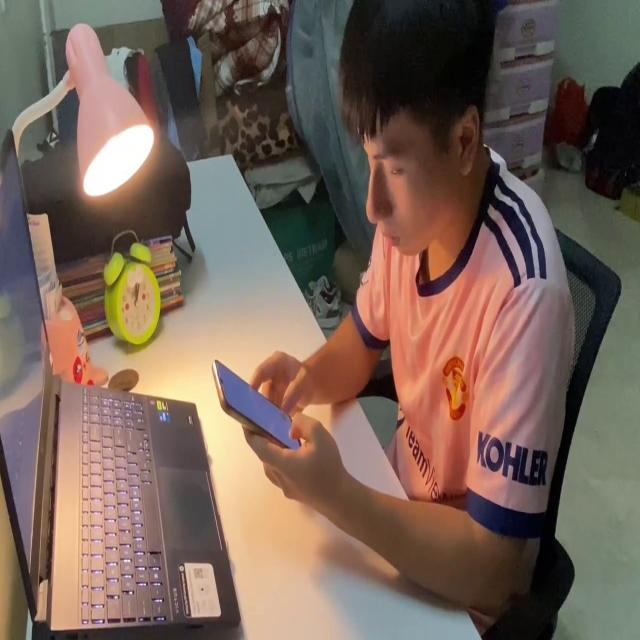laptop: (1, 122, 241, 638)
phone: (210, 350, 310, 459)
student: (241, 7, 570, 622)
